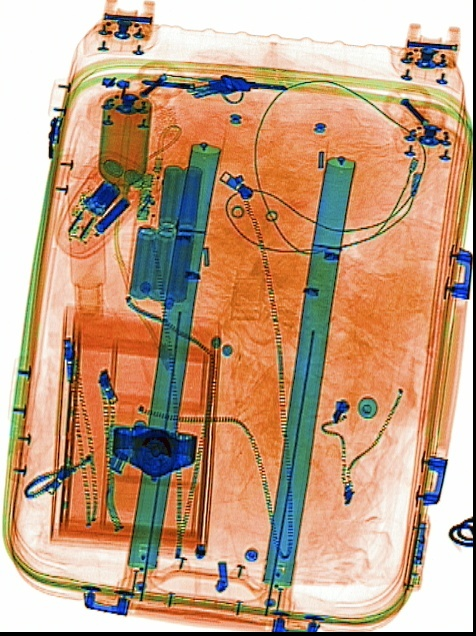powerbank: (121, 161, 204, 307)
